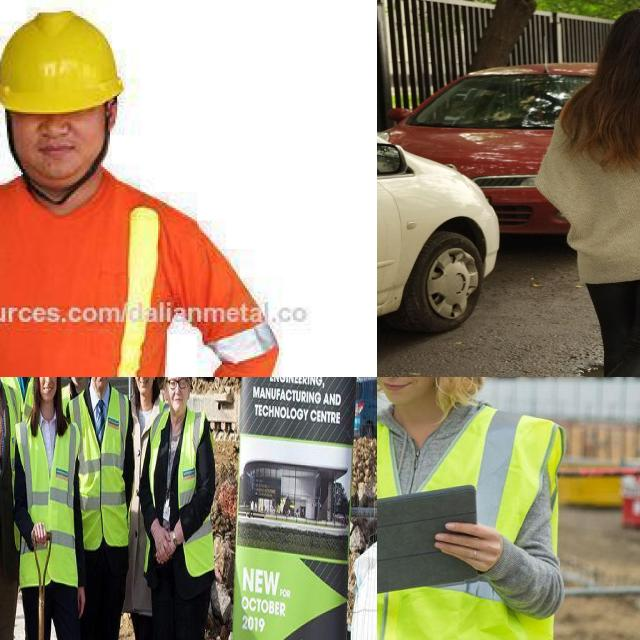face_nomask: (0, 107, 101, 185), (377, 377, 438, 400), (168, 377, 192, 418), (36, 377, 56, 400), (133, 377, 154, 396), (88, 377, 111, 394)
glasses: (167, 377, 189, 393)
hand_noglove: (423, 502, 513, 588), (146, 510, 184, 570), (29, 520, 52, 556), (74, 574, 87, 622)
head_helmet: (0, 10, 138, 108)
person: (0, 0, 219, 377), (377, 377, 566, 640), (15, 377, 85, 640), (66, 377, 132, 640), (150, 377, 213, 640), (127, 377, 164, 640), (0, 377, 25, 640), (3, 377, 36, 415)
vest: (377, 404, 562, 640), (0, 201, 175, 377), (16, 412, 80, 595), (150, 406, 215, 572), (76, 390, 132, 550), (1, 377, 36, 408)
